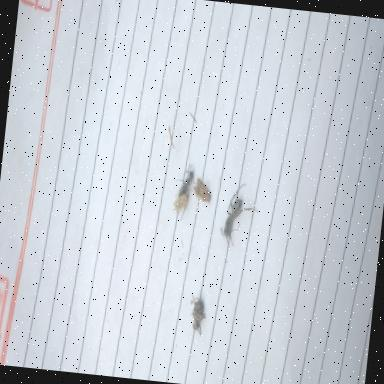pbw: (191, 177, 213, 205), (172, 193, 189, 214)
